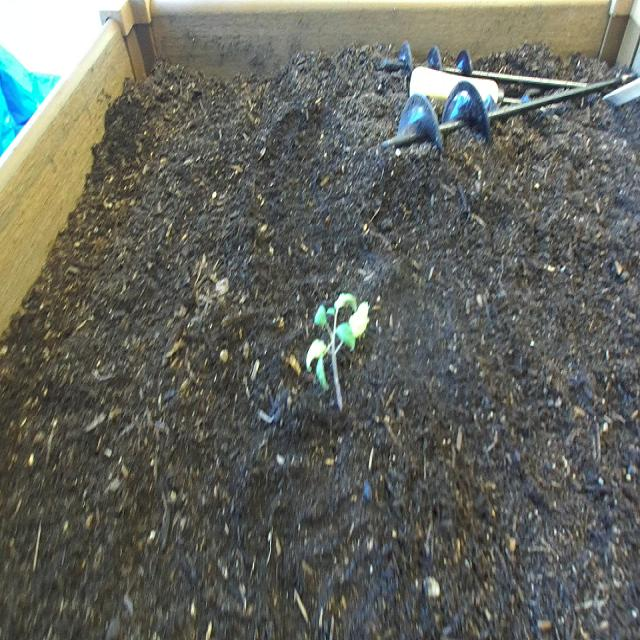Healthy: (305, 290, 370, 413)
